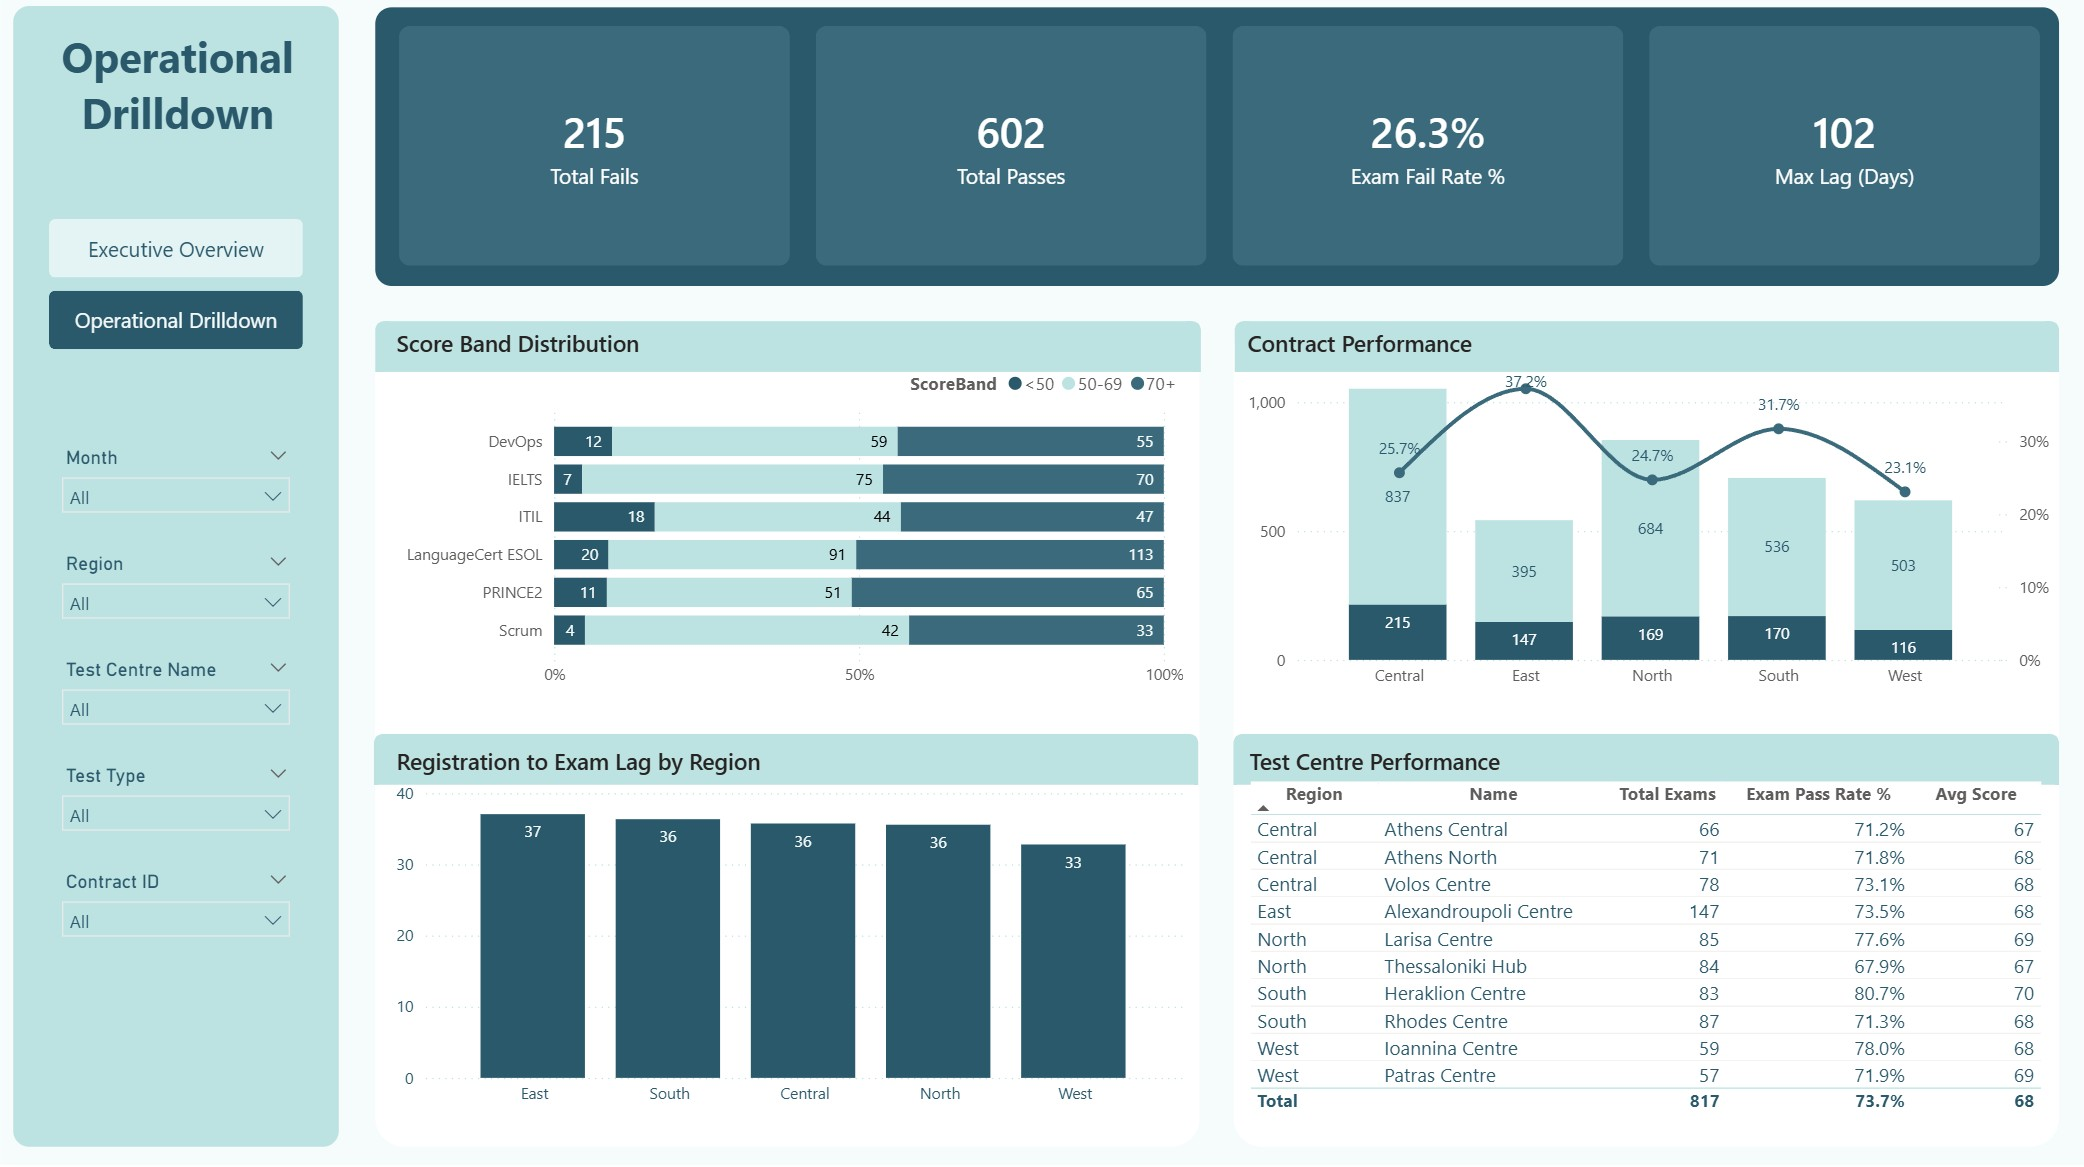

Layout of this report page (visuals, bound fields, positions):
{"tool":"powerbi","page":{"name":"Operational Drilldown","canvas":[1600,900],"ordinal":1},"visuals":[{"type":"tableEx","title":"Test Centre Performance","fields":{"Values":["DimRegion.Region","DimTestCentre.Name","_Measures.Total Exams","_Measures.Exam Pass Rate %","_Measures.Avg Score"]},"box":[954.2,576.3,624.3,294.5],"z":0},{"type":"lineStackedColumnComboChart","title":"Contract Performance","fields":{"Category":["DimRegion.Region","DimContract.ContractId"],"Y":["_Measures.Total Exams","_Measures.Total Target"],"Y2":["_Measures.Target Achieved %"]},"box":[952.9,255.3,625.6,285.6],"z":1000},{"type":"textbox","box":[12.1,20.2,248.2,96.2],"z":2000},{"type":"slicer","fields":{"Values":["DimCandidate.TestType"]},"box":[38,586.6,194.8,70.3],"z":3000},{"type":"slicer","fields":{"Values":["DimDate.Month"]},"box":[38,342.8,194.8,70.3],"z":4000},{"type":"slicer","fields":{"Values":["DimContract.ContractId"]},"box":[38,667.8,194.8,70.3],"z":5000},{"type":"slicer","fields":{"Values":["DimTestCentre.Name"]},"box":[38,505.3,194.8,70.3],"z":6000},{"type":"slicer","fields":{"Values":["DimRegion.Region"]},"box":[38,424.1,194.8,70.3],"z":7000},{"type":"cardVisual","fields":{"Data":["_Measures.Total Fails","_Measures.Total Passes","_Measures.Fail Rate %","_Measures.Max Lag (Days)"]},"box":[299.5,13.9,1275.2,204],"z":8000},{"type":"hundredPercentStackedBarChart","title":"Score Band Distribution","fields":{"Y":["_Measures.Total Exams"],"Category":["DimCandidate.TestType"],"Series":["FactExamResults.ScoreBand"]},"box":[299.5,255.3,614.2,285.6],"z":9000},{"type":"clusteredColumnChart","title":"Registration to Exam Lag by Region","fields":{"Category":["DimRegion.Region"],"Y":["_Measures.Avg Reg To Exam Lag (Days)"]},"box":[299.5,576.3,614.2,285.6],"z":10000},{"type":"pageNavigator","box":[38,172.2,195,100.3],"z":11000}]}

Visuals, with their boxes in screenshot pixels (x1, y1, x2, y2), scaled from the page's 1600x900 canvas onto the 2084x1167 screenshot:
"Test Centre Performance" tableEx: <box>1243,747,2056,1129</box>
"Contract Performance" lineStackedColumnComboChart: <box>1241,331,2056,701</box>
textbox: <box>16,26,339,151</box>
slicer - DimCandidate.TestType: <box>49,761,303,852</box>
slicer - DimDate.Month: <box>49,444,303,536</box>
slicer - DimContract.ContractId: <box>49,866,303,957</box>
slicer - DimTestCentre.Name: <box>49,655,303,746</box>
slicer - DimRegion.Region: <box>49,550,303,641</box>
cardVisual - _Measures.Total Fails x _Measures.Total Passes: <box>390,18,2051,283</box>
"Score Band Distribution" hundredPercentStackedBarChart: <box>390,331,1190,701</box>
"Registration to Exam Lag by Region" clusteredColumnChart: <box>390,747,1190,1118</box>
pageNavigator: <box>49,223,303,353</box>
